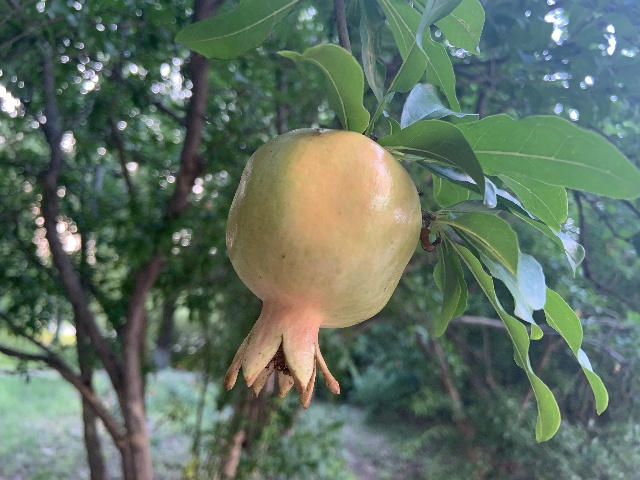mid-growth: (220, 129, 422, 408)
